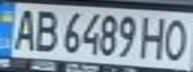4: (78, 10, 103, 56)
6: (60, 8, 84, 54)
8: (96, 11, 121, 57)
9: (115, 11, 142, 58)
A: (9, 6, 39, 52)
B: (30, 7, 60, 53)
H: (139, 14, 172, 61)
O: (160, 15, 193, 62)
